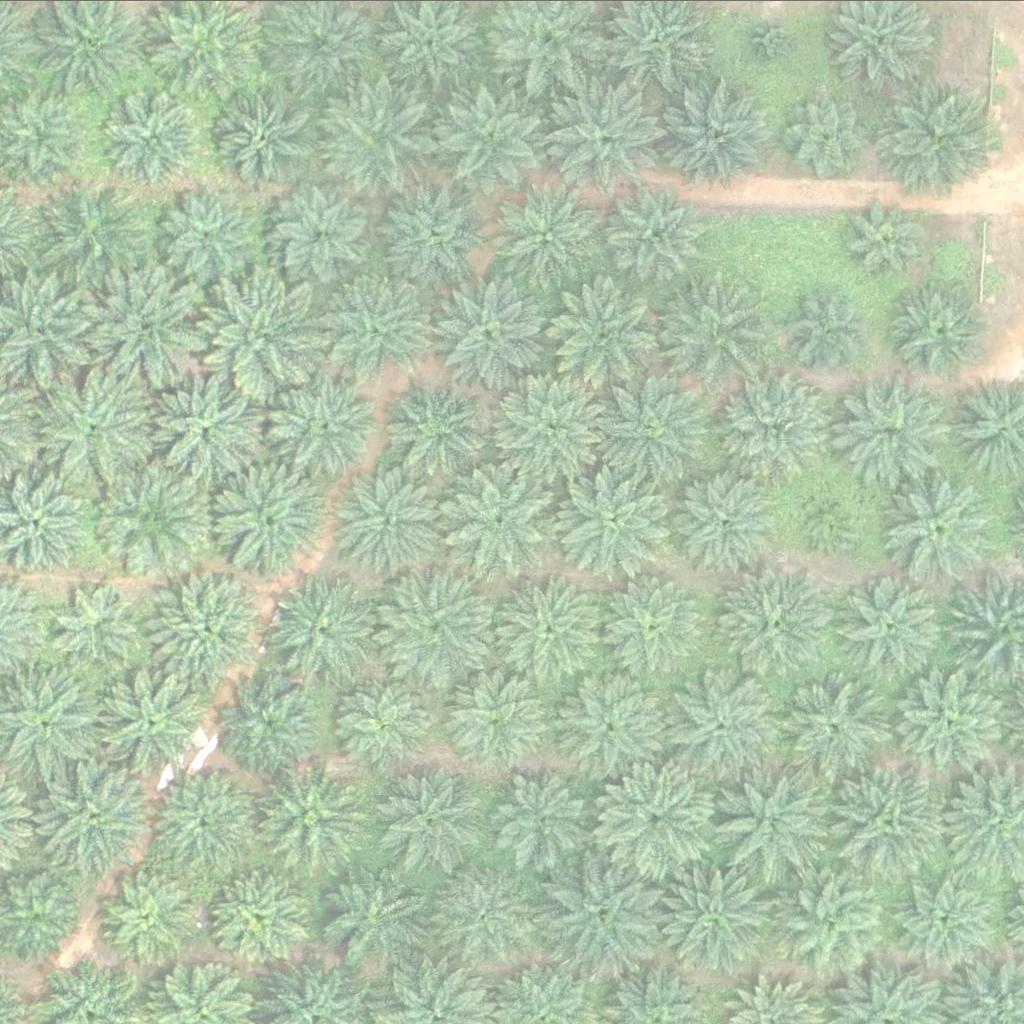Kelapa_Sawit: (716, 368, 830, 481), (557, 462, 671, 575), (317, 856, 431, 969), (773, 867, 887, 980), (831, 762, 945, 875), (91, 663, 204, 776), (151, 569, 264, 682), (210, 459, 323, 572), (91, 271, 204, 384), (206, 277, 319, 390), (437, 78, 550, 191), (550, 78, 663, 191), (665, 75, 778, 188), (486, 180, 599, 293), (497, 364, 610, 477), (592, 370, 705, 483), (332, 463, 445, 576), (448, 459, 561, 572), (267, 572, 380, 685), (381, 567, 494, 680), (600, 760, 713, 873), (712, 763, 825, 876), (430, 859, 543, 972), (549, 854, 662, 967), (661, 861, 774, 974), (883, 470, 996, 583), (840, 374, 953, 487), (878, 75, 991, 188), (252, 763, 366, 875), (495, 567, 609, 679), (376, 764, 490, 876), (895, 662, 1009, 774), (40, 763, 153, 875), (150, 765, 263, 877), (96, 461, 209, 573), (38, 367, 151, 479), (144, 369, 257, 481), (39, 176, 152, 288), (319, 84, 432, 196), (323, 272, 436, 384), (434, 275, 547, 387), (546, 270, 659, 382), (653, 271, 766, 383), (268, 365, 381, 477), (721, 565, 834, 677), (558, 666, 671, 778), (668, 662, 781, 774), (777, 668, 890, 780), (218, 674, 319, 774), (51, 574, 152, 674), (156, 184, 257, 284), (275, 182, 376, 282), (217, 82, 318, 182), (379, 182, 480, 282), (606, 181, 707, 281), (385, 372, 486, 472), (842, 572, 943, 672), (98, 860, 198, 960), (210, 864, 310, 964), (104, 87, 204, 187), (674, 467, 774, 567), (605, 574, 705, 674), (337, 673, 437, 773), (451, 668, 551, 768), (495, 765, 595, 865), (900, 869, 1000, 969), (896, 284, 985, 372), (1, 93, 89, 181), (786, 89, 874, 176), (796, 288, 872, 363), (847, 202, 922, 277), (799, 484, 862, 546), (744, 11, 795, 61)
